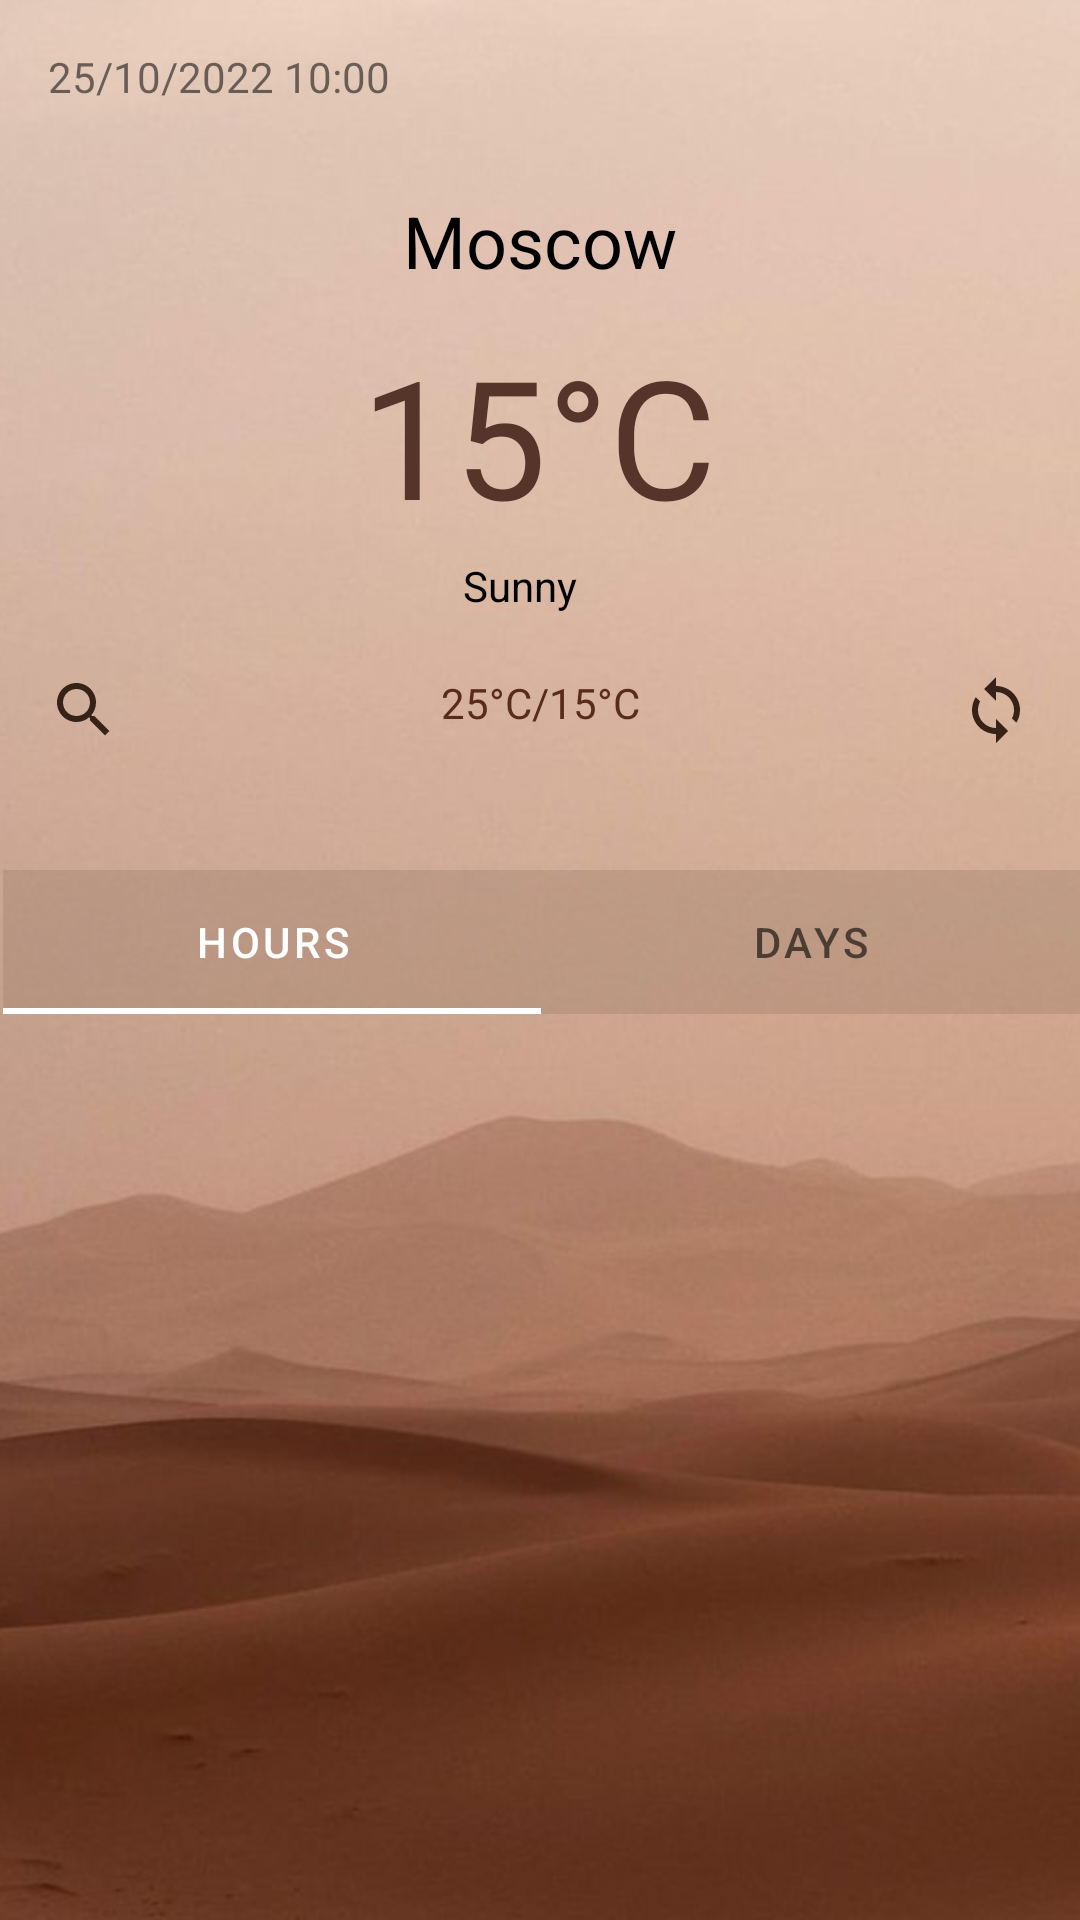

Named icons in this screenshot (1080 × 1920) and their bounding boxes, BBox(x1, y1, x2, y2):
search: BBox(57, 683, 109, 735)
sync: BBox(972, 677, 1020, 743)
